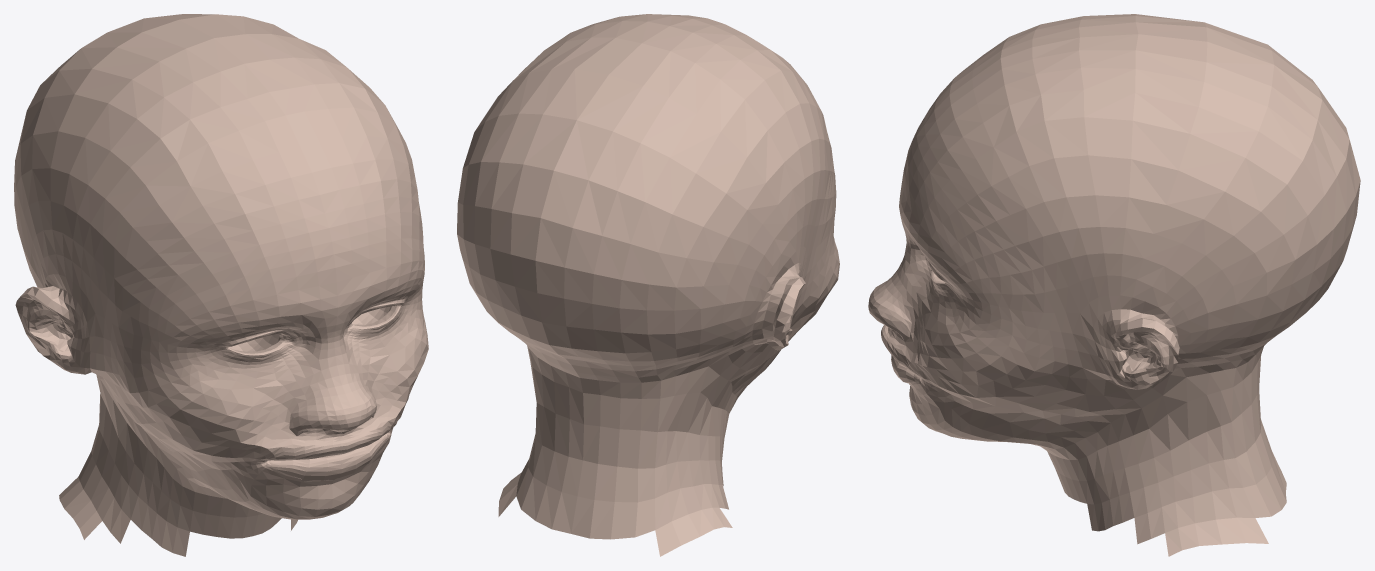
File: karma_face_MH_neutral_Y.glb
The picture shows the model from 3 angles, left to right: view 1: azimuth 30°, elevation 25°; view 2: azimuth 150°, elevation 25°; view 3: azimuth 270°, elevation 25°; orthographic projection. The views are drawn at different scales.
Parts seen in each view (by area): view 1: head; view 2: head; view 3: head.
Boxes of the visible parts, x1,y1,x2,y2 form: head: [14, 14, 428, 556]; head: [457, 14, 839, 556]; head: [868, 14, 1360, 556].
Size of the model in its own units: 3.03 by 3.91 by 3.7.
